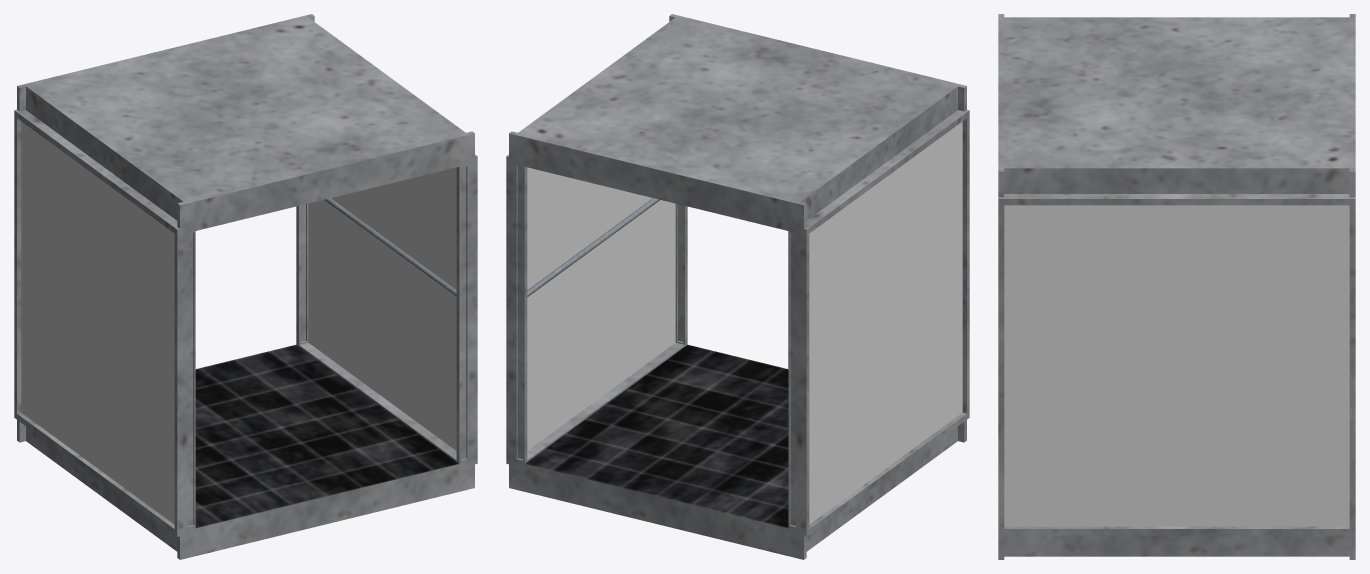
The model's file is BridgeRoof.fbx.
3 views of the same model, side by side, from view 1: azimuth 30°, elevation 25°; view 2: azimuth 150°, elevation 25°; view 3: azimuth 270°, elevation 25° (orthographic). The views are drawn at different scales.
Visible parts, largest first — view 1: BridgeRoof; view 2: BridgeRoof; view 3: BridgeRoof.
Boxes of the visible parts, <box> form: BridgeRoof: <box>14,14,477,559</box>; BridgeRoof: <box>506,14,969,559</box>; BridgeRoof: <box>998,14,1355,559</box>.
Size of what is drawn, in the model's own units: 213 by 240 by 200.
